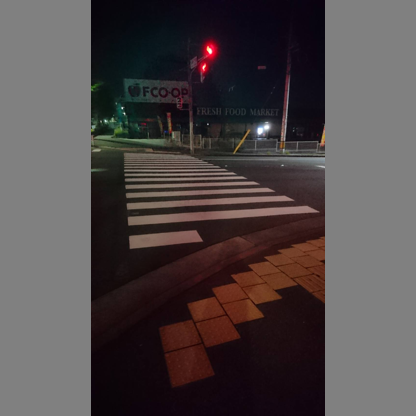brailleblock: (158, 234, 324, 389)
crosswalk: (120, 152, 304, 252)
